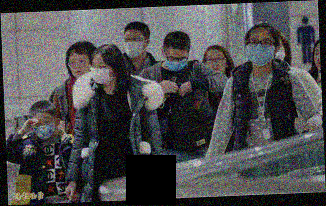with_mask: (245, 35, 276, 67), (121, 32, 145, 59), (33, 115, 58, 140), (90, 61, 113, 85), (164, 52, 189, 72)
without_mask: (204, 52, 227, 74), (67, 56, 89, 79)
